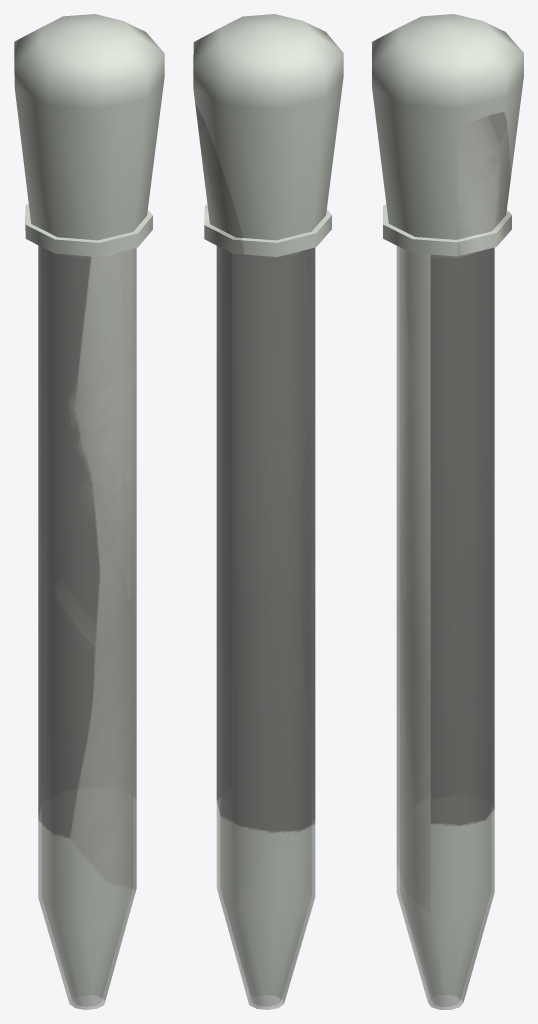
Rendered from pipette.fbx.
3 views of the same model, side by side, from view 1: azimuth 30°, elevation 25°; view 2: azimuth 150°, elevation 25°; view 3: azimuth 270°, elevation 25° (orthographic).
Parts seen in each view (by area): view 1: Cylinder; view 2: Cylinder; view 3: Cylinder.
Boxes of the visible parts, box(x1,y1,x2,y2) form: Cylinder: box(14, 14, 164, 1009); Cylinder: box(193, 14, 343, 1009); Cylinder: box(372, 14, 523, 1009).
Bounding box in the file's own units: 1.7 × 12.03 × 1.7.
